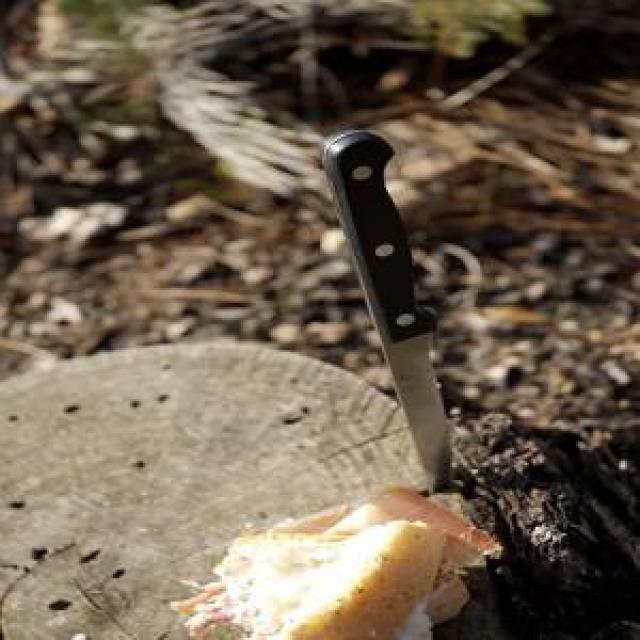knife: (316, 130, 462, 489)
